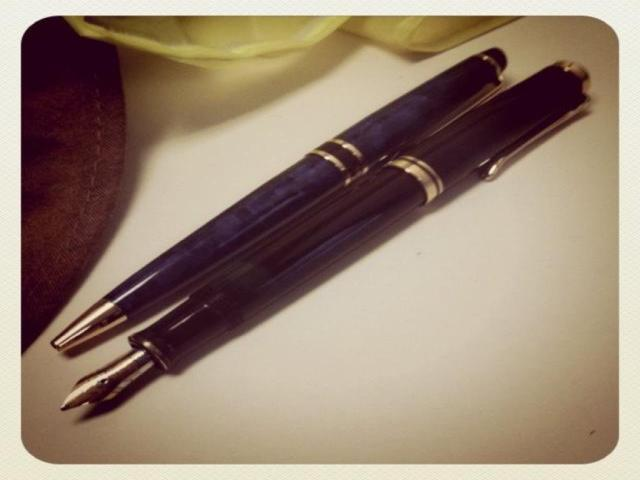PEN: (20, 35, 618, 433), (22, 23, 527, 370)
